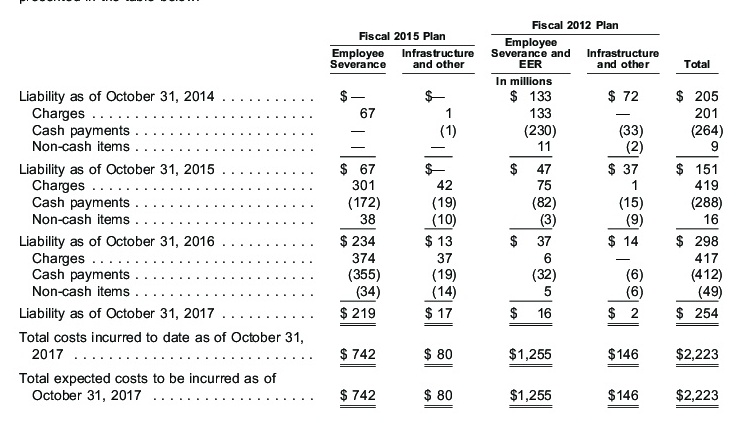table: (0, 0, 741, 423)
